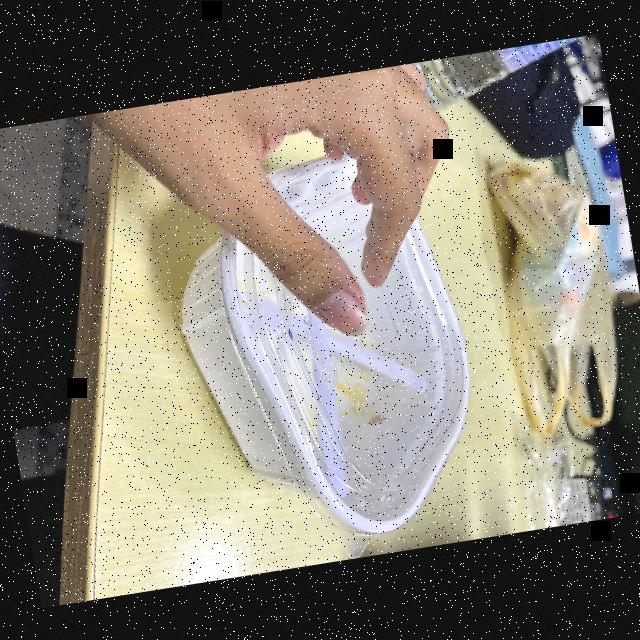plastic_box: (143, 120, 508, 574)
